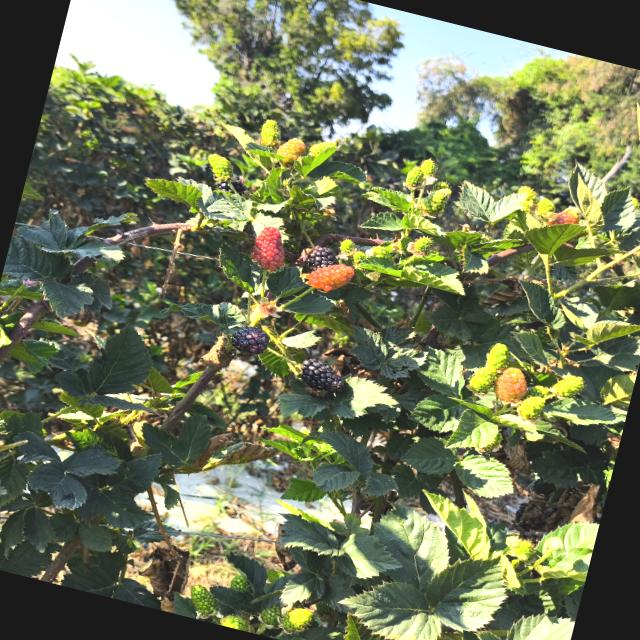maduro: (301, 359, 343, 393), (231, 326, 269, 355), (306, 246, 338, 269)
naranja: (250, 226, 284, 271), (307, 263, 354, 291), (494, 367, 527, 402), (277, 138, 305, 162), (547, 207, 579, 225)
verde: (422, 182, 451, 214), (281, 608, 313, 633), (468, 366, 497, 393), (191, 585, 216, 616), (551, 375, 584, 398), (208, 154, 233, 180), (517, 396, 544, 420), (486, 343, 509, 370), (260, 119, 280, 147), (517, 185, 537, 211), (221, 615, 249, 632), (404, 166, 424, 189), (260, 606, 280, 627), (309, 141, 336, 156), (230, 575, 252, 593), (536, 197, 554, 217), (420, 158, 437, 176)
